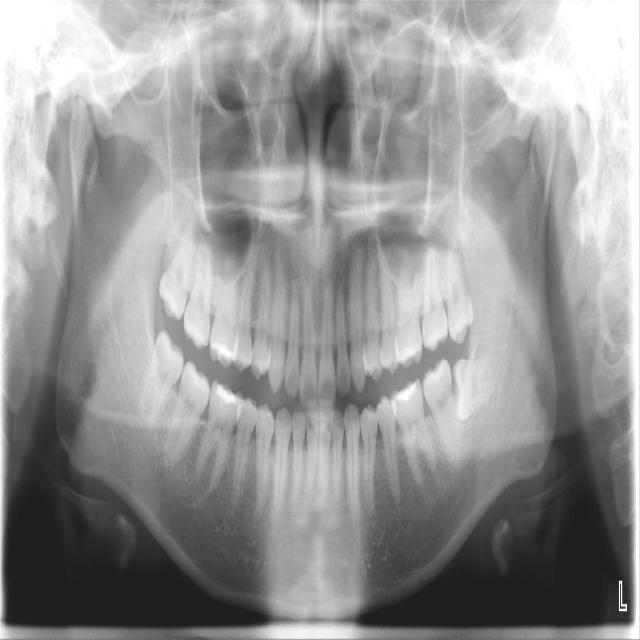Filling: (213, 341, 234, 363), (395, 382, 417, 402), (214, 384, 237, 402)
impacted tooth: (453, 351, 496, 418)
